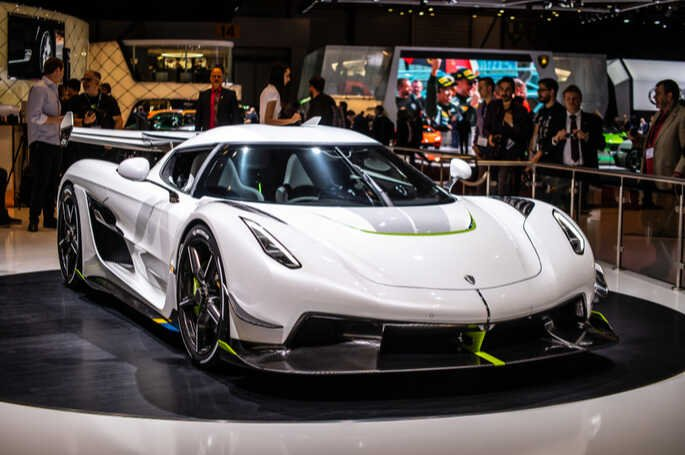mobil: (76, 87, 611, 396)
